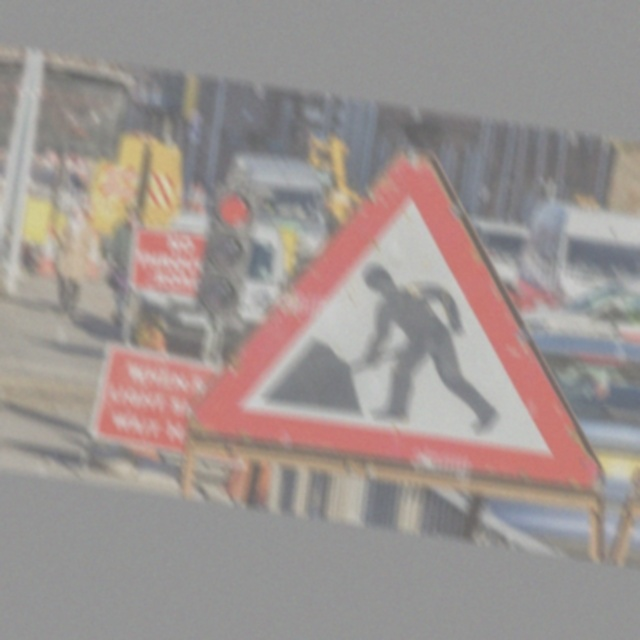Men_at_Work: (211, 138, 613, 495)
